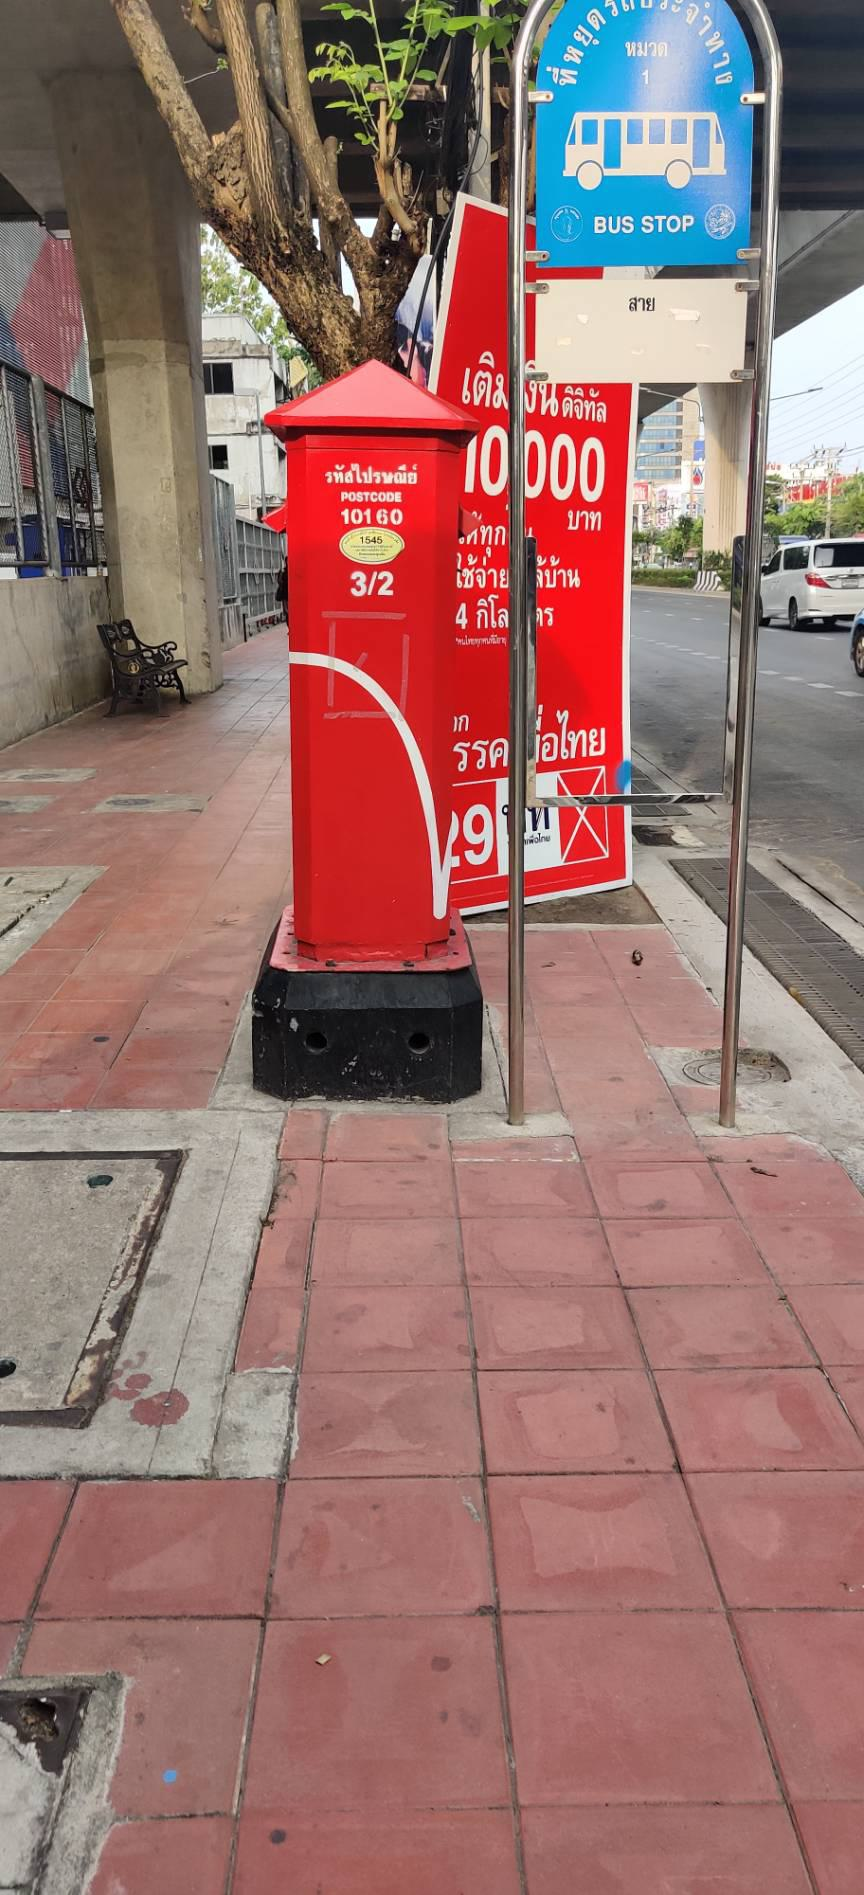Banner: (437, 164, 638, 918)
